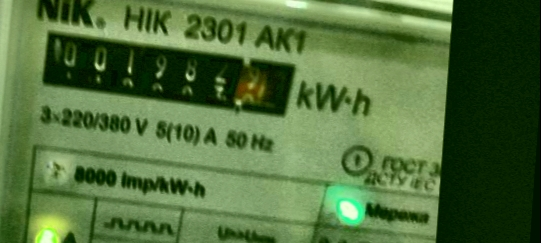0: (88, 41, 107, 71), (58, 36, 76, 66)
1: (120, 43, 134, 73)
2: (209, 53, 229, 83)
8: (179, 51, 197, 80)
9: (240, 61, 262, 90), (149, 48, 166, 78)
screen: (21, 13, 308, 129)
